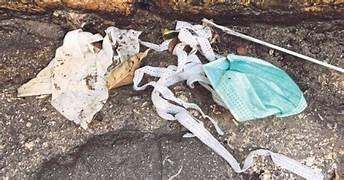Mask: (133, 21, 323, 179), (203, 54, 306, 120)
